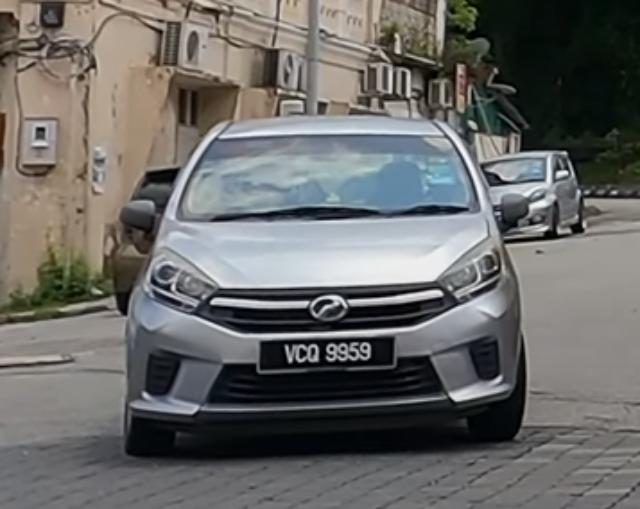License_Plate: (256, 333, 399, 374)
car: (115, 112, 530, 456)
